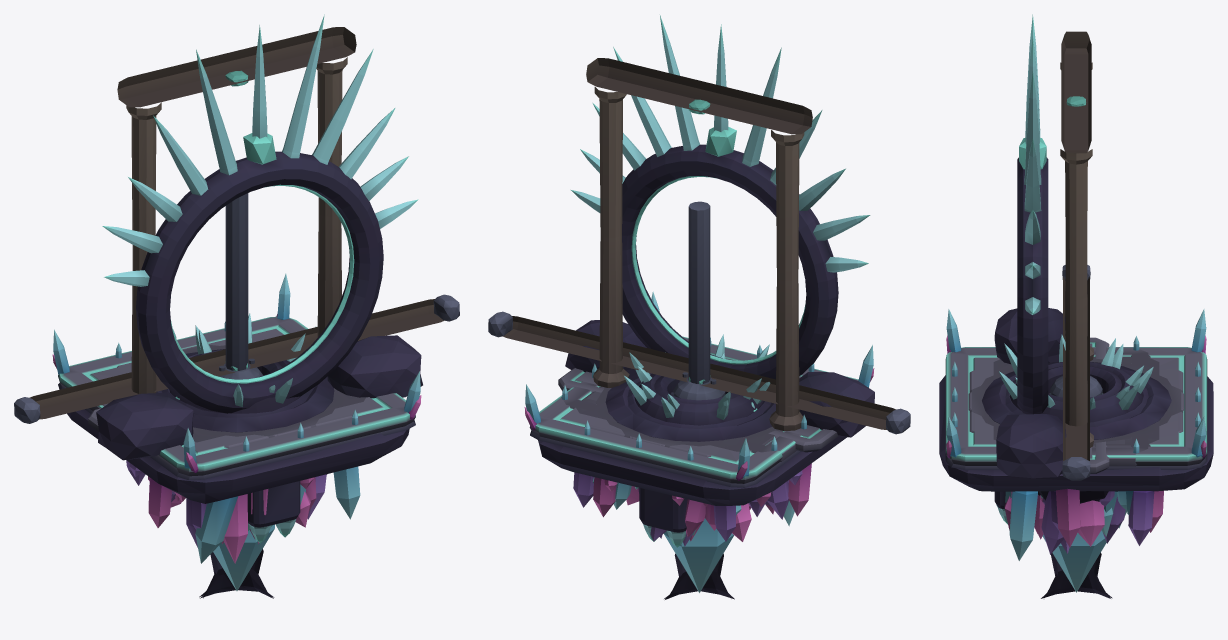
The model's file is caverns-1-CP5tR6Mr.glb.
The picture shows the model from 3 angles, left to right: view 1: azimuth 30°, elevation 25°; view 2: azimuth 150°, elevation 25°; view 3: azimuth 270°, elevation 25°; orthographic projection. The views are drawn at different scales.
Parts seen in each view (by area): view 1: portal_#0, pad_12x2x12#0, pressFrame_7.5x6x2.5x7#0, mount_10.6#0, press_2.5x6x7.5#0, geyserVent_3.9#0, block_12x2x7#0, block_8x2x10#0, disc_10x1.5#0, block_10x2x8#0, geyserVent_3#0, support_0_round#0 (+1 smaller); view 2: portal_#0, pressFrame_7.5x6x2.5x7#0, pad_12x2x12#0, mount_10.6#0, geyserVent_3.9#0, press_2.5x6x7.5#0, disc_10x1.5#0, block_8x2x10#0, geyserVent_3#0, block_12x2x7#0, block_14x2x3#0, block_10x2x8#0 (+2 smaller); view 3: pad_12x2x12#0, portal_#0, pressFrame_7.5x6x2.5x7#0, geyserVent_3.9#0, block_12x2x7#0, disc_10x1.5#0, mount_10.6#0, geyserVent_3#0, block_10x2x8#0, block_14x2x3#0, support_1_round#0, block_4x2x10#0 (+4 smaller).
Boxes of the visible parts, x1,y1,x2,y2 form: portal_#0: [96, 14, 422, 460]; pad_12x2x12#0: [52, 273, 421, 503]; pressFrame_7.5x6x2.5x7#0: [117, 27, 356, 393]; mount_10.6#0: [14, 294, 459, 423]; press_2.5x6x7.5#0: [225, 193, 300, 543]; geyserVent_3.9#0: [156, 313, 334, 432]; block_12x2x7#0: [89, 394, 360, 527]; block_8x2x10#0: [117, 339, 352, 563]; disc_10x1.5#0: [170, 345, 343, 590]; block_10x2x8#0: [193, 397, 365, 563]; geyserVent_3#0: [161, 329, 314, 417]; support_0_round#0: [200, 549, 273, 598]; portal_#0: [565, 15, 874, 437]; pressFrame_7.5x6x2.5x7#0: [586, 58, 812, 430]; pad_12x2x12#0: [524, 291, 874, 530]; mount_10.6#0: [488, 311, 910, 434]; geyserVent_3.9#0: [605, 334, 775, 441]; press_2.5x6x7.5#0: [639, 201, 710, 547]; disc_10x1.5#0: [595, 387, 776, 592]; block_8x2x10#0: [589, 355, 801, 541]; geyserVent_3#0: [627, 352, 770, 428]; block_12x2x7#0: [561, 381, 811, 516]; block_14x2x3#0: [558, 368, 838, 484]; block_10x2x8#0: [573, 386, 782, 514]; pad_12x2x12#0: [939, 309, 1213, 491]; portal_#0: [994, 14, 1066, 478]; pressFrame_7.5x6x2.5x7#0: [1060, 31, 1093, 447]; geyserVent_3.9#0: [982, 334, 1171, 439]; block_12x2x7#0: [1004, 347, 1150, 560]; disc_10x1.5#0: [981, 358, 1171, 592]; mount_10.6#0: [1062, 265, 1090, 480]; geyserVent_3#0: [1005, 338, 1148, 427]; block_10x2x8#0: [993, 356, 1159, 545]; block_14x2x3#0: [1056, 337, 1109, 547]; support_1_round#0: [1041, 553, 1112, 598]; block_4x2x10#0: [969, 384, 1183, 528].
Size of the model in its own units: 22.1 by 29.02 by 12.59.
